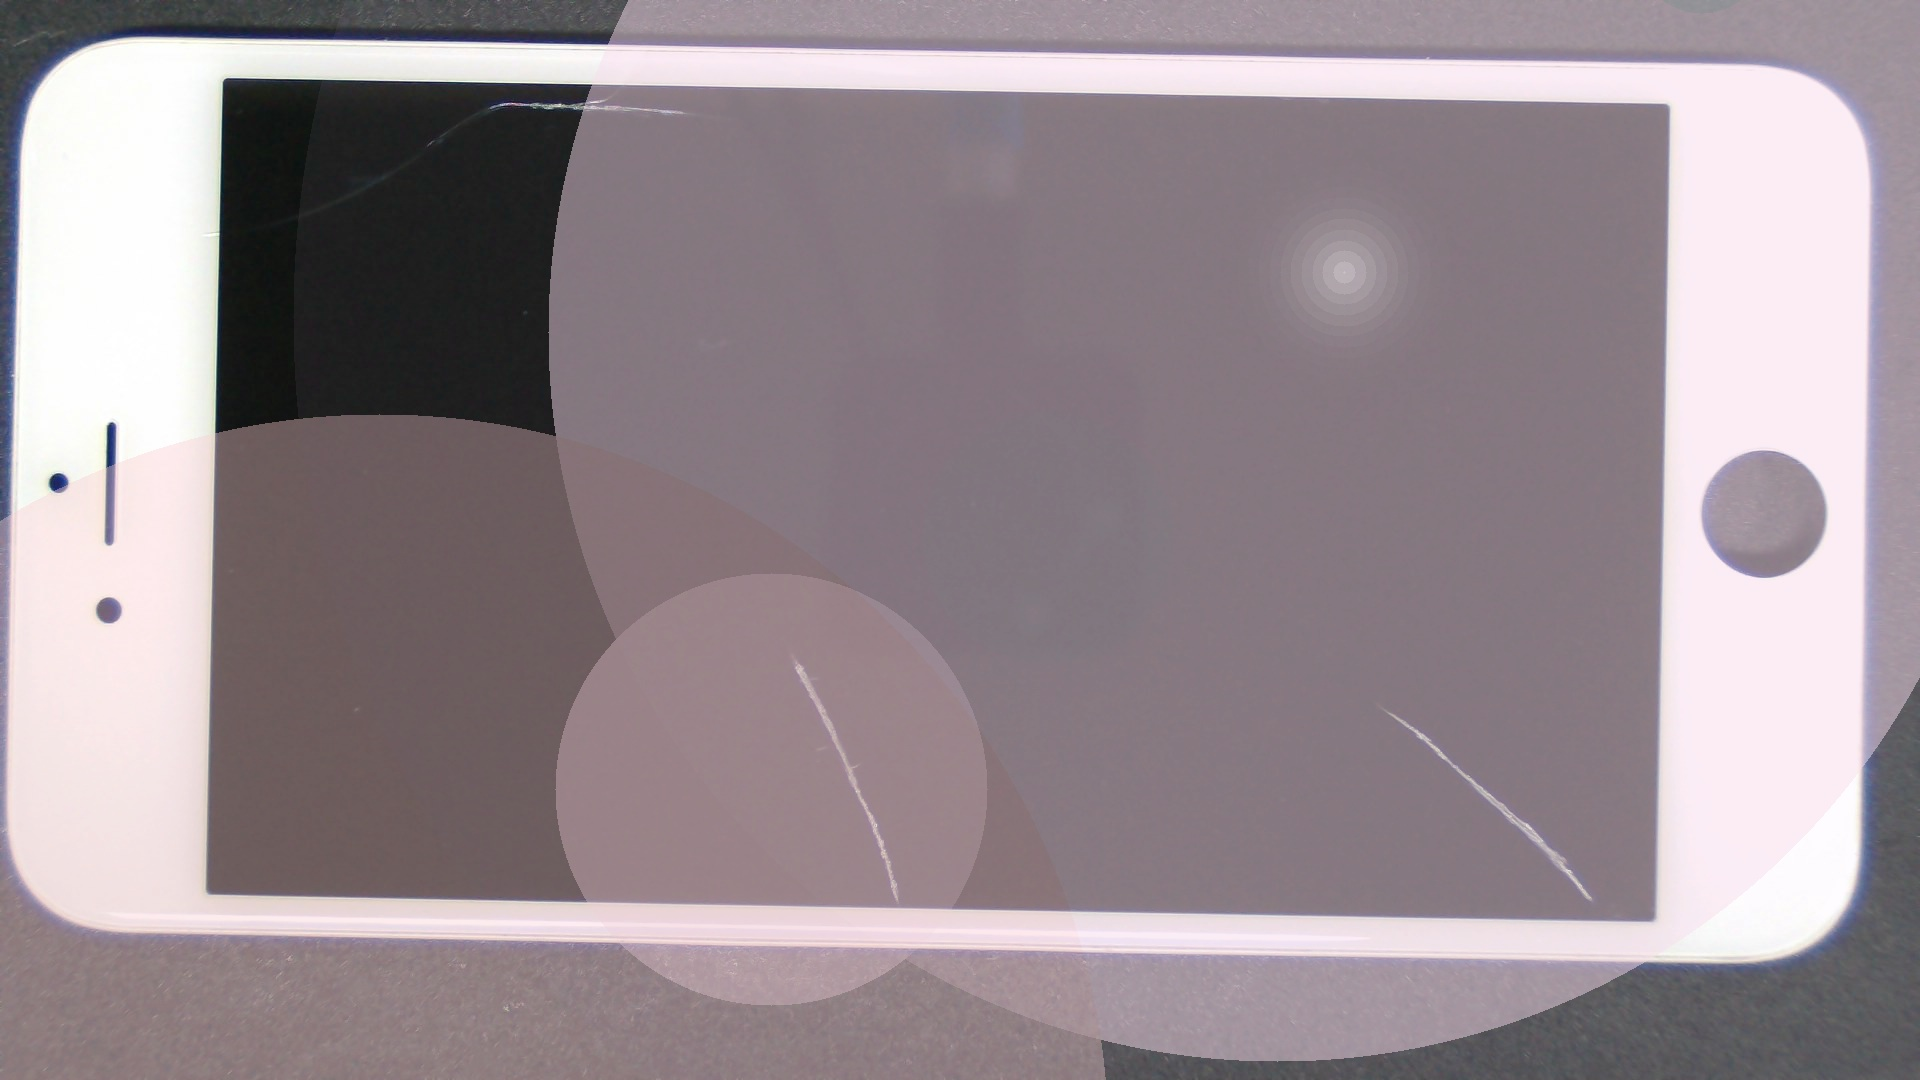oil: (688, 351, 1920, 1055), (397, 326, 1187, 981), (306, 46, 913, 144)
